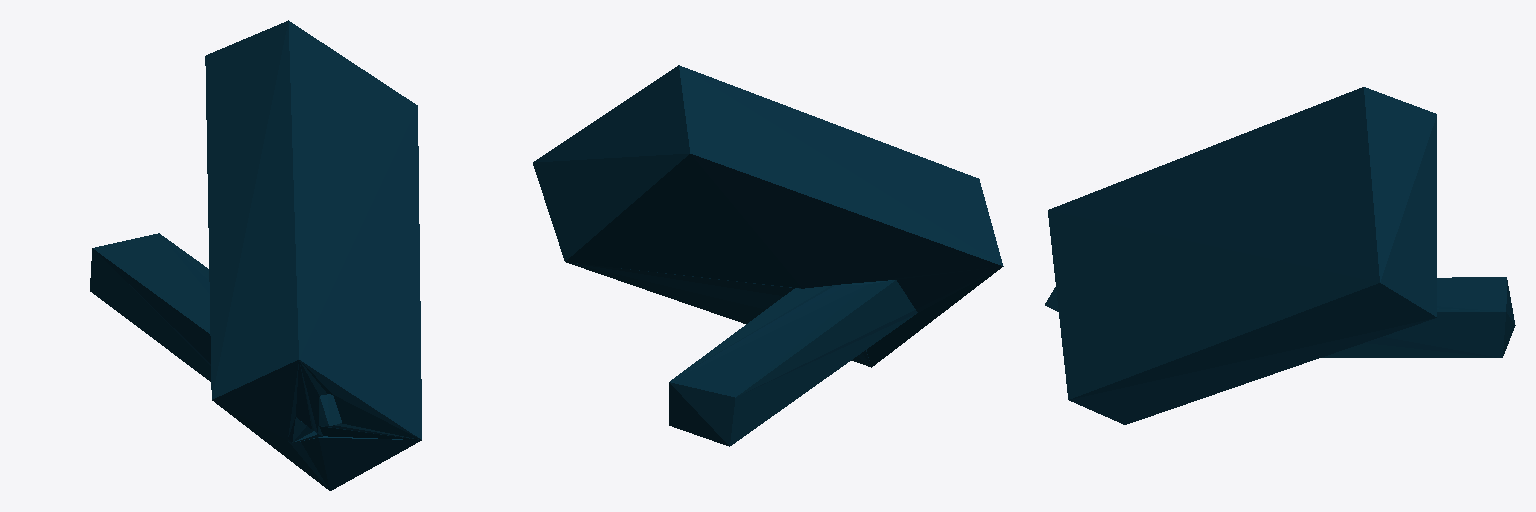
robot.urdf — blob749:

<robot name="blob749">
  <link name="random_obj_749">
    <contact>
      <lateral_friction value="1.0"/>
      <rolling_friction value="0.0"/>
      <inertia_scaling value="3.0"/>
      <contact_cfm value="0.0"/>
      <contact_erp value="1.0"/>
    </contact>
    <inertial>
      <origin rpy="0 0 0" xyz="0 0 0"/>
      <mass value="0.0914"/>
      <inertia ixx="1" ixy="0" ixz="0" iyy="1" iyz="0" izz="0"/>
    </inertial>
    <visual>
      <origin rpy="0 0 0" xyz="0 0 0"/>
      <geometry>
        <mesh filename="749.obj" scale="0.0094 0.0094 0.0094"/>
      </geometry>
      <material name="blockmat">
        <color rgba="0.06 0.22 0.29 1"/>
      </material>
    </visual>
    <collision>
      <origin rpy="0 0 0" xyz="0 0 0"/>
      <geometry>
        <mesh filename="749_coll.obj" scale="0.0094 0.0094 0.0094"/>
      </geometry>
    </collision>
  </link>
</robot>

--- Render facts (derived) ---
3 views of the same robot in one strip: view 1: azimuth 30°, elevation 25°; view 2: azimuth 150°, elevation 25°; view 3: azimuth 270°, elevation 25° (orthographic).
Model blob749 with 1 links and 0 joints (none), rooted at random_obj_749, posed every joint at zero.
Links seen in each view (by area): view 1: random_obj_749; view 2: random_obj_749; view 3: random_obj_749.
Boxes of the visible links, x1=… form: random_obj_749: x1=90, y1=20, x2=421, y2=490; random_obj_749: x1=533, y1=65, x2=1003, y2=446; random_obj_749: x1=1045, y1=87, x2=1515, y2=424.
Size in the robot's own frame: 0.108 by 0.1278 by 0.1125 metres.
Meshes: 1 distinct files referenced, 1 mesh visuals loaded (1 OBJ).
